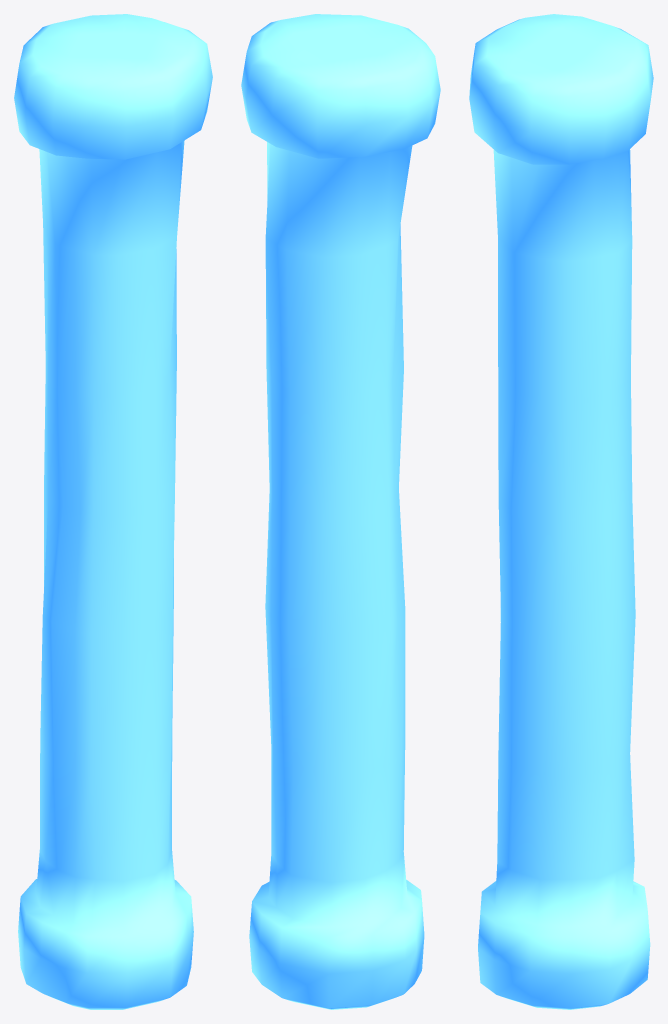
File: Pillar03_002.fbx
3 views of the same model, side by side, from view 1: azimuth 30°, elevation 25°; view 2: azimuth 150°, elevation 25°; view 3: azimuth 270°, elevation 25° (orthographic).
Parts seen in each view (by area): view 1: Pillar03.002; view 2: Pillar03.002; view 3: Pillar03.002.
Part boxes in pixels (x1,y1,x2,y2): Pillar03.002: (14, 14, 212, 1009); Pillar03.002: (241, 14, 440, 1009); Pillar03.002: (469, 14, 653, 1009).
Size of the model in its own units: 14700 by 74051 by 13265.
